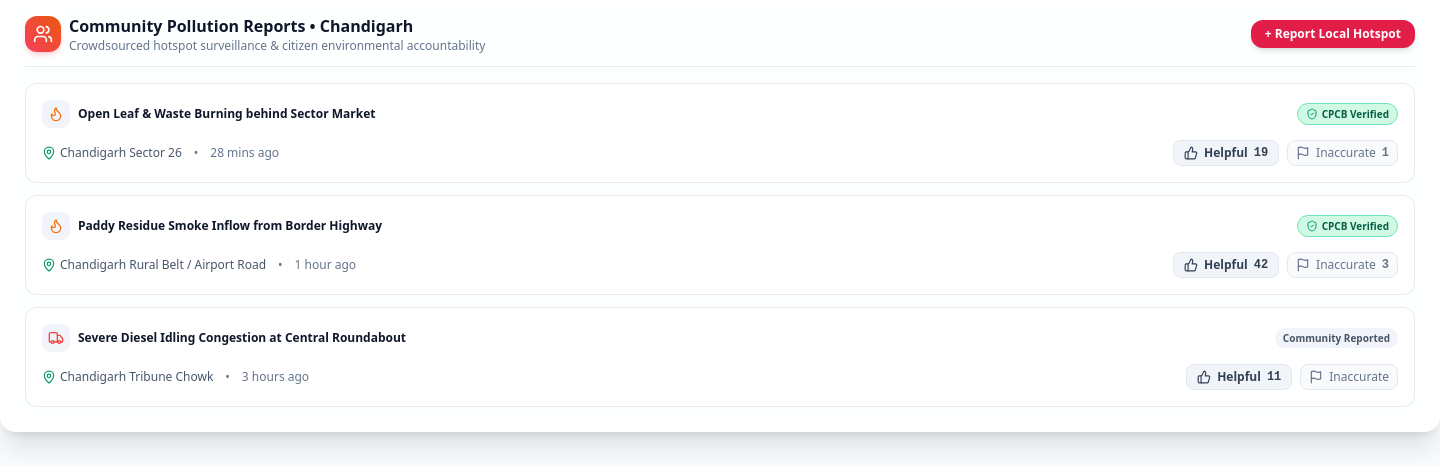
Scenario: CommunityReportsFeed Component › increments upvote count on user click
Click the text "19".
click(1261, 153)  # box [1254,145,1268,161]
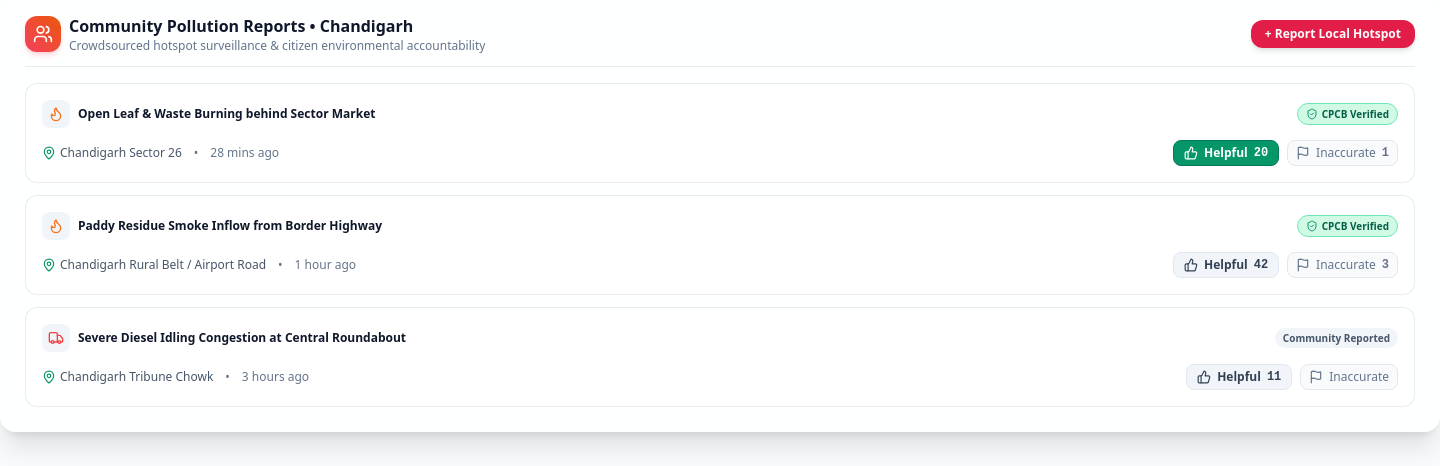
Expected: the text "20" is shown, [1254,145,1268,161]
